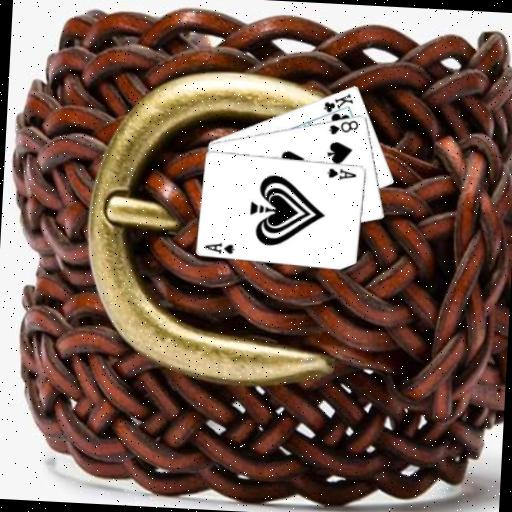8S: (326, 116, 360, 137)
AS: (201, 239, 237, 256), (324, 165, 358, 182)
KC: (320, 89, 355, 121)
